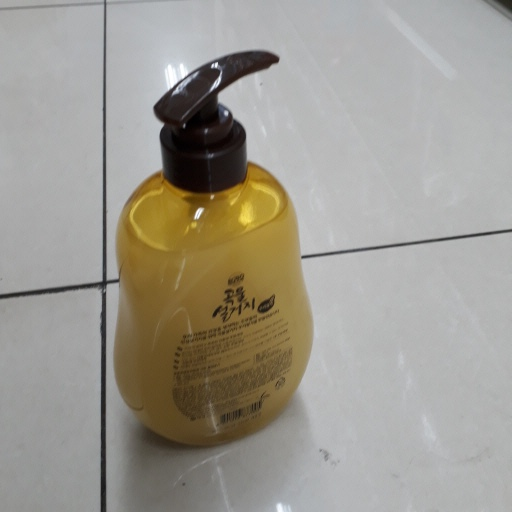Plastic_3: (115, 50, 313, 443)
